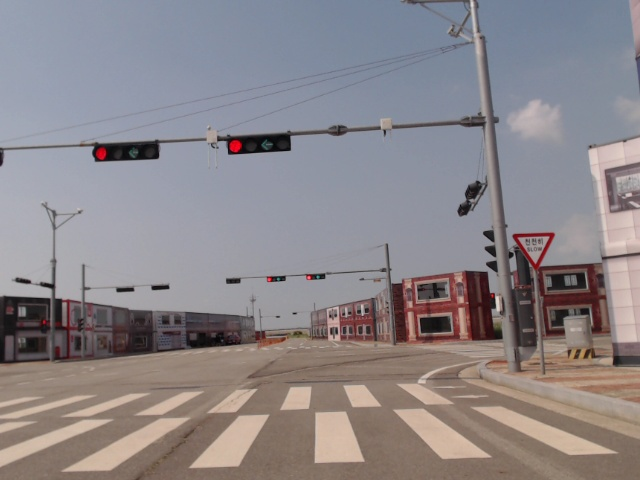left_green_4: (95, 145, 158, 162), (229, 138, 293, 154), (307, 274, 326, 280), (267, 276, 285, 282)
